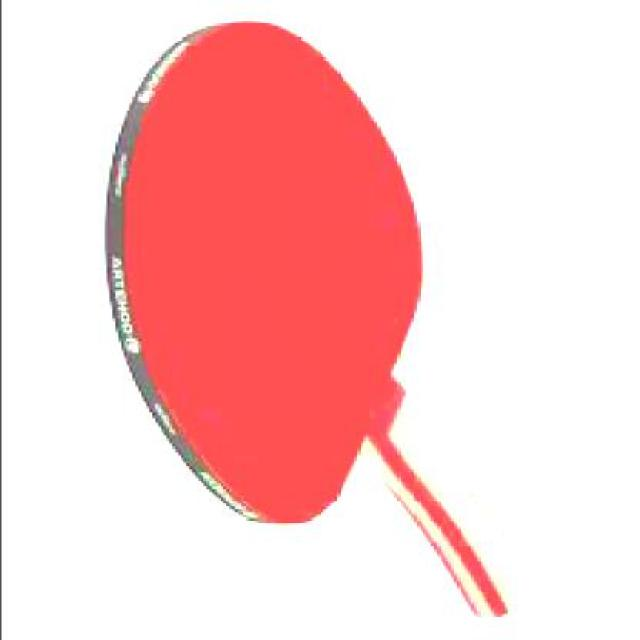table_tennis_racket: (103, 22, 505, 617)
